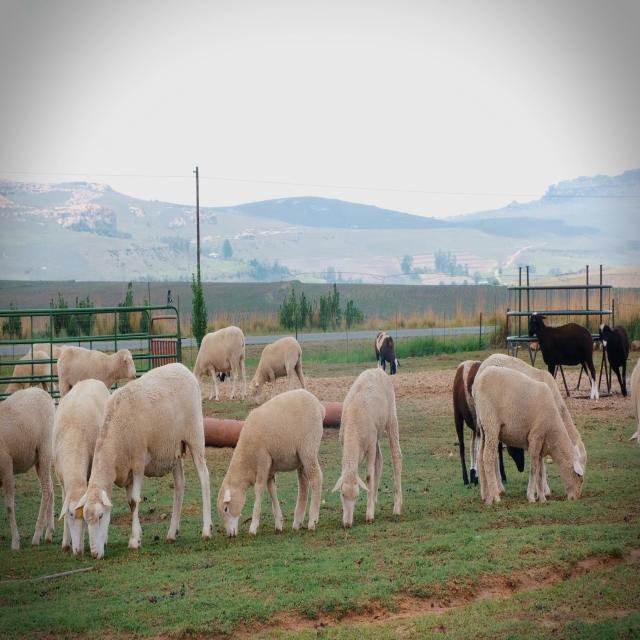sheep: (75, 342, 214, 578), (467, 338, 597, 522), (216, 368, 336, 558), (333, 367, 409, 547), (50, 328, 146, 407), (246, 319, 318, 418)
